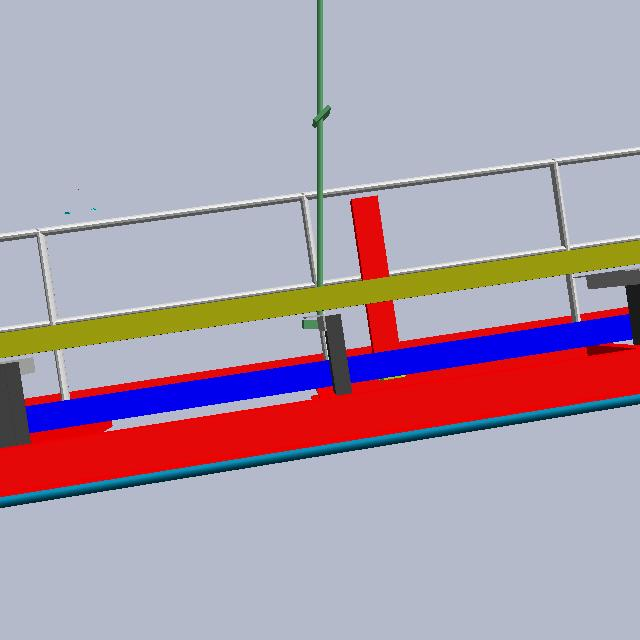Poste: (302, 1, 336, 333)
Soporte: (340, 176, 427, 405)
